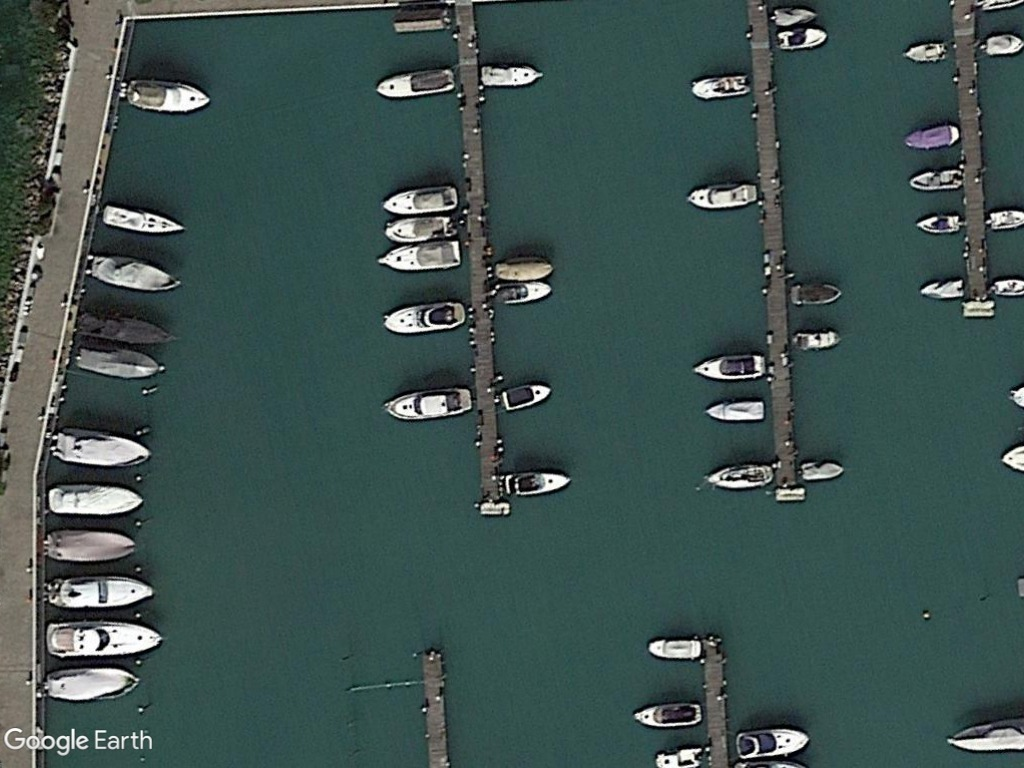boat: (44, 618, 167, 660), (51, 423, 156, 471), (43, 573, 159, 611), (87, 251, 184, 295), (45, 479, 146, 519), (44, 666, 146, 705), (43, 526, 143, 564), (381, 382, 473, 423), (74, 339, 162, 380), (124, 77, 213, 116), (381, 297, 466, 337), (375, 239, 466, 275), (729, 723, 814, 761), (99, 201, 188, 237), (374, 64, 456, 102), (381, 180, 460, 215), (382, 212, 466, 244), (699, 459, 774, 494), (690, 350, 766, 384), (629, 697, 704, 731), (497, 469, 575, 499), (684, 179, 757, 211), (498, 375, 553, 415), (487, 280, 556, 311), (490, 251, 557, 282), (686, 69, 750, 101), (477, 61, 548, 89), (899, 122, 960, 153), (700, 396, 768, 423), (772, 24, 829, 54), (786, 279, 846, 307), (646, 632, 702, 661), (906, 166, 962, 194), (916, 273, 966, 304), (790, 324, 843, 351), (797, 456, 848, 484), (912, 210, 962, 237), (767, 4, 822, 28), (979, 30, 1024, 57), (901, 37, 946, 64)
